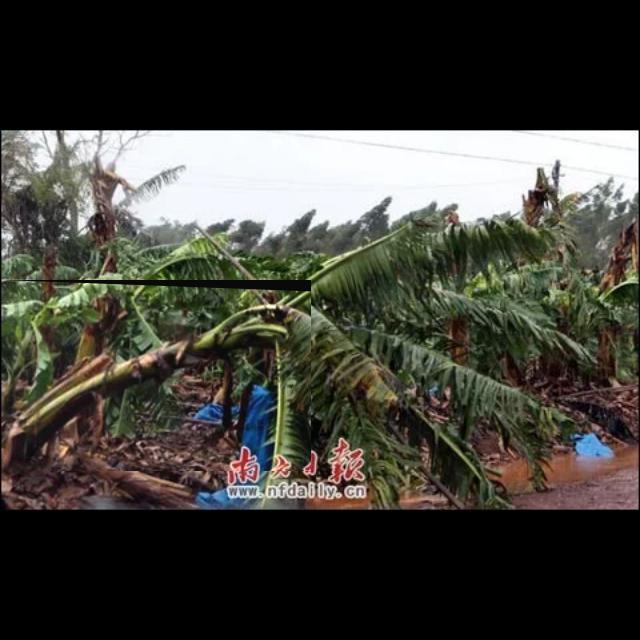Fallen Tree: (4, 280, 312, 472)
